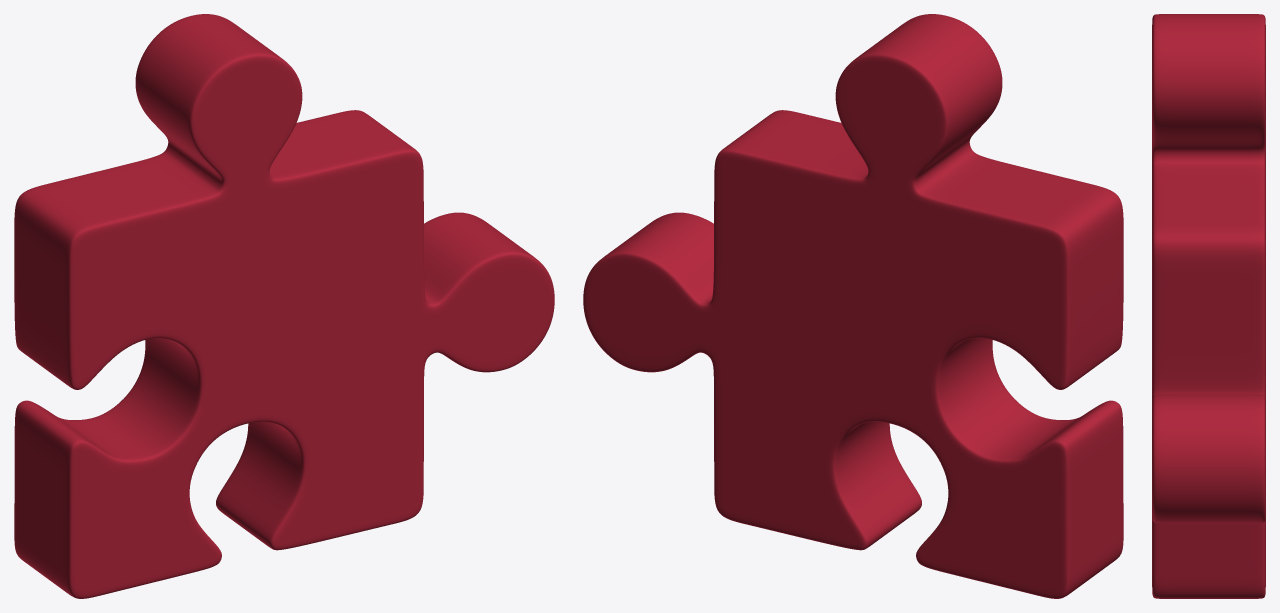
Rendered from puzzle.fbx.
3 renders of one model, left to right at view 1: azimuth 30°, elevation 25°; view 2: azimuth 150°, elevation 25°; view 3: azimuth 270°, elevation 25°, orthographic.
Visible parts, largest first — view 1: Puzzle; view 2: Puzzle; view 3: Puzzle.
Part boxes in pixels (<box>): Puzzle: <box>14,14,554,598</box>; Puzzle: <box>583,14,1123,598</box>; Puzzle: <box>1152,14,1265,598</box>.
Bounding box in the file's own units: 188 × 187 × 38.53.
